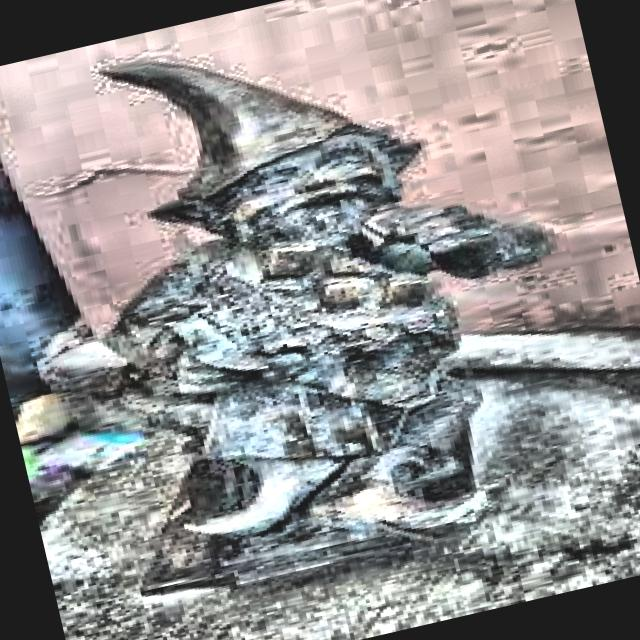Wedelek: (105, 68, 542, 591)
